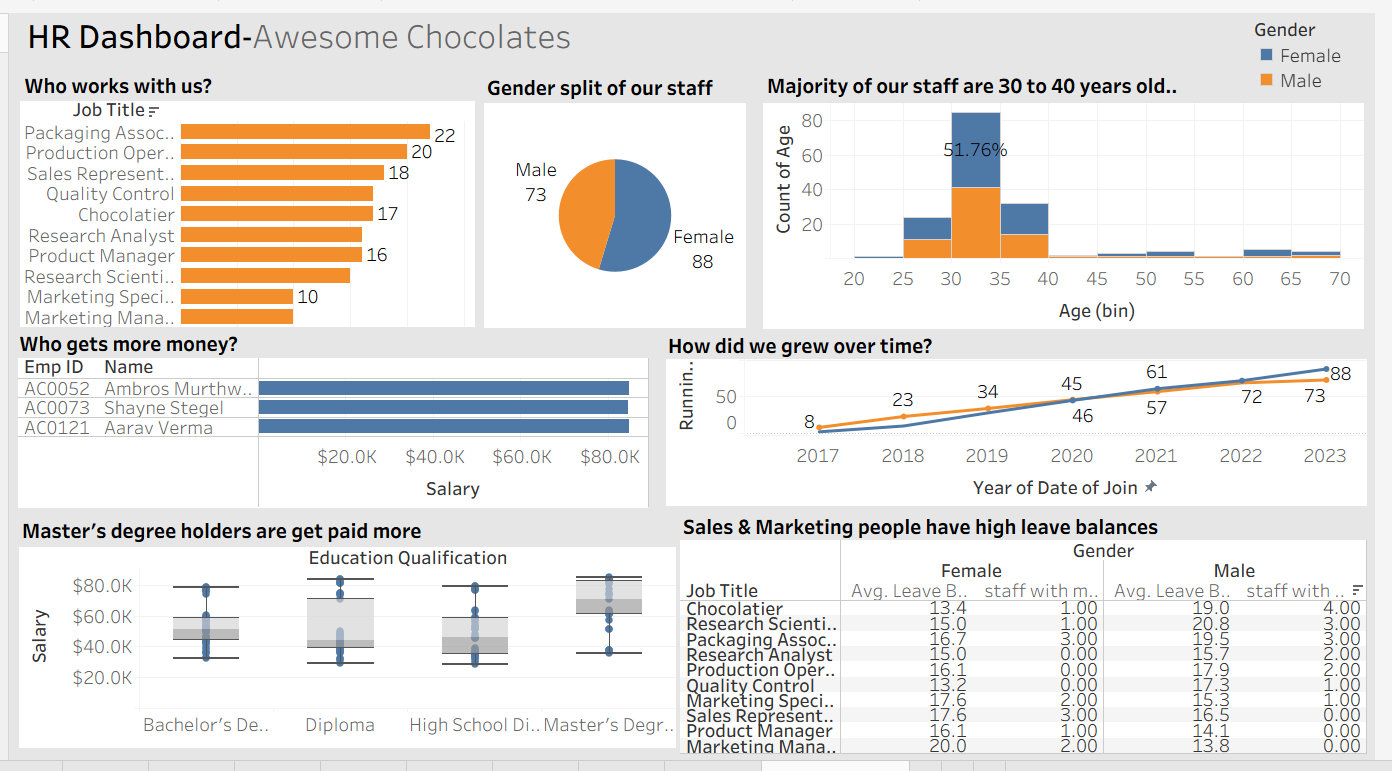

The dashboard page shown, as its layout file describes it:
{"tool":"tableau","page":{"name":"Dashboard 1","canvas":[1366,768],"ordinal":0},"visuals":[{"type":"legend","title":"Sheet 3","param":"[federated.09o70ob0plpco914o4i5l0m1ukmo].[none:Gender:nk]","box":[1245,5,108,76]},{"type":"text","box":[14,8,586,33]},{"type":"text","box":[754,51,474,46]},{"type":"text","box":[11,61,246,26]},{"type":"text","box":[474,61,246,30]},{"type":"worksheet","title":"Sheet 1","mark":"Automatic","rows":["Job Title"],"cols":["data_A20E15FC10884C82817519119BF46AEC"],"box":[11.1,89.6,455.1,226.1]},{"type":"worksheet","title":"Sheet 2","mark":"Pie","box":[475,92,262,225]},{"type":"worksheet","title":"Sheet 3","mark":"Automatic","rows":["Age"],"cols":["Age (bin)"],"box":[754,92,601,226]},{"type":"text","box":[6,319,285,26]},{"type":"text","box":[655,321,306,25]},{"type":"worksheet","title":"Sheet 5","mark":"Automatic","rows":["Emp ID","Name"],"cols":["Salary"],"box":[9,347,631,150]},{"type":"worksheet","title":"Sheet 7","mark":"Automatic","rows":["data_A20E15FC10884C82817519119BF46AEC"],"cols":["Date of Join"],"box":[657,348,701,147]},{"type":"text","box":[670,502,507,26]},{"type":"text","box":[9,506,413,26]},{"type":"worksheet","title":"Sheet 9","mark":"Automatic","rows":["Job Title"],"cols":["Gender"],"box":[671,529,687,214]},{"type":"worksheet","title":"Sheet 6","mark":"Circle","rows":["Salary"],"cols":["Education Qualification"],"box":[10,536,657,201]}]}

Visuals, with their boxes in screenshot pixels (x1, y1, x2, y2), scaled from the page's 1366x768 canvas onto the 1392x771 screenshot:
"Sheet 3" legend: (left=1269, top=5, right=1379, bottom=81)
text: (left=14, top=8, right=611, bottom=41)
text: (left=768, top=51, right=1251, bottom=97)
text: (left=11, top=61, right=262, bottom=87)
text: (left=483, top=61, right=734, bottom=91)
"Sheet 1" worksheet: (left=11, top=90, right=475, bottom=317)
"Sheet 2" worksheet (Pie marks): (left=484, top=92, right=751, bottom=318)
"Sheet 3" worksheet: (left=768, top=92, right=1381, bottom=319)
text: (left=6, top=320, right=297, bottom=346)
text: (left=667, top=322, right=979, bottom=347)
"Sheet 5" worksheet: (left=9, top=348, right=652, bottom=499)
"Sheet 7" worksheet: (left=670, top=349, right=1384, bottom=497)
text: (left=683, top=504, right=1199, bottom=530)
text: (left=9, top=508, right=430, bottom=534)
"Sheet 9" worksheet: (left=684, top=531, right=1384, bottom=746)
"Sheet 6" worksheet (Circle marks): (left=10, top=538, right=680, bottom=740)
